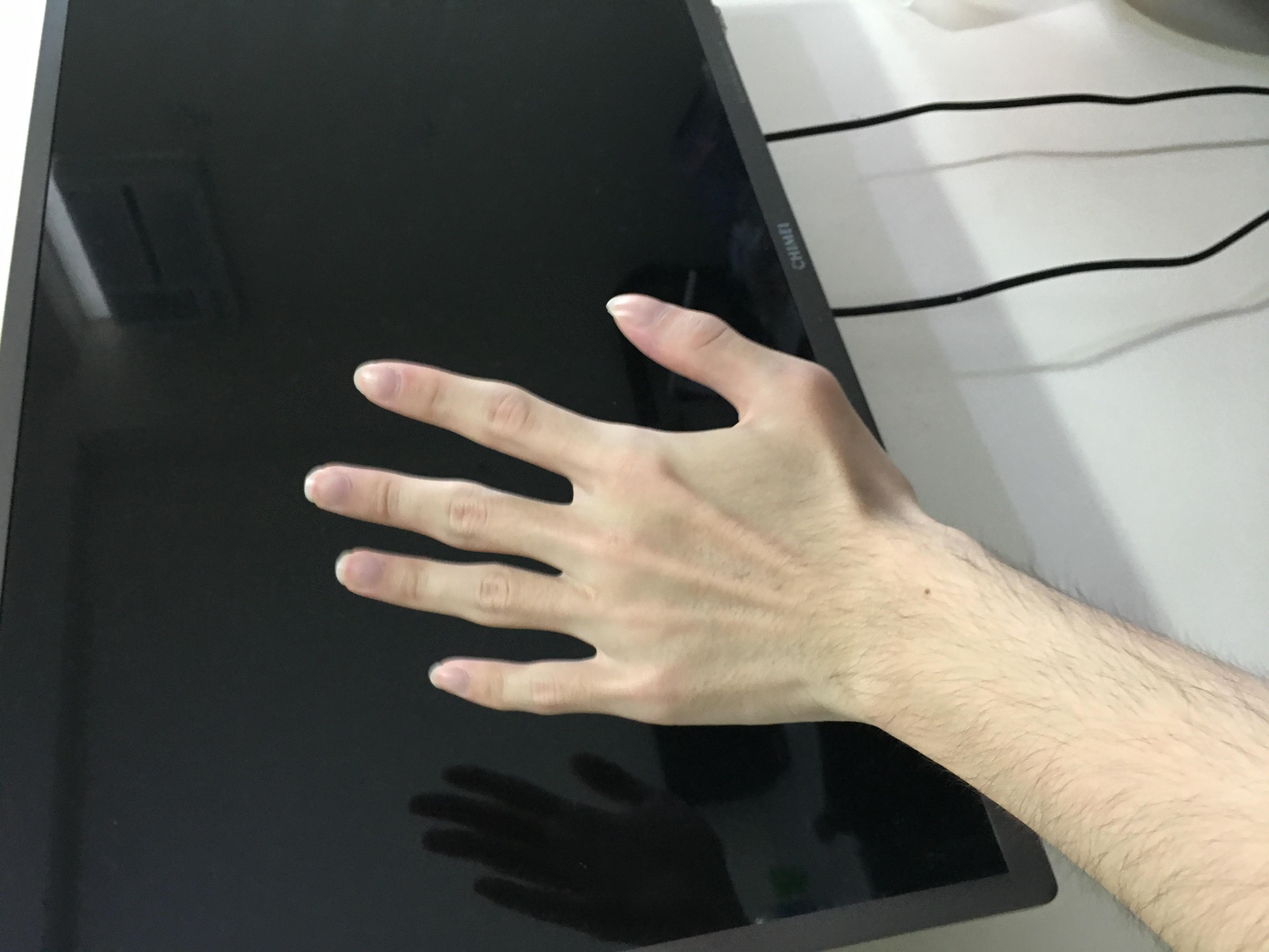palm: (290, 218, 885, 662)
